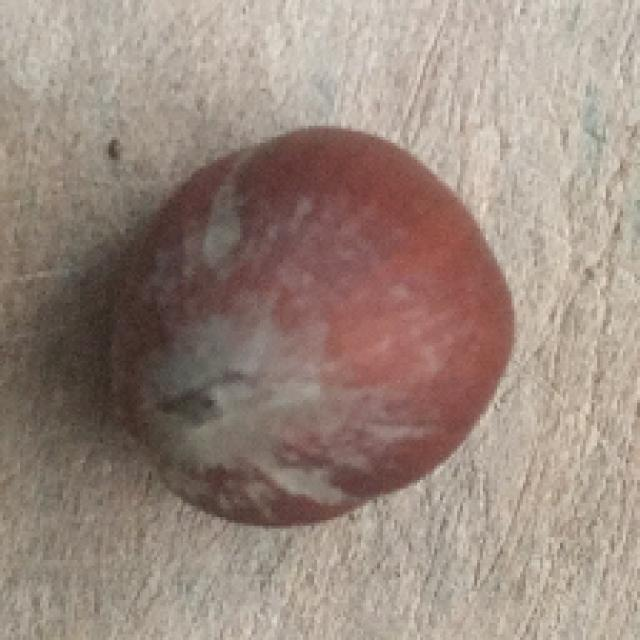qualityHazelnut: (90, 124, 509, 529)
